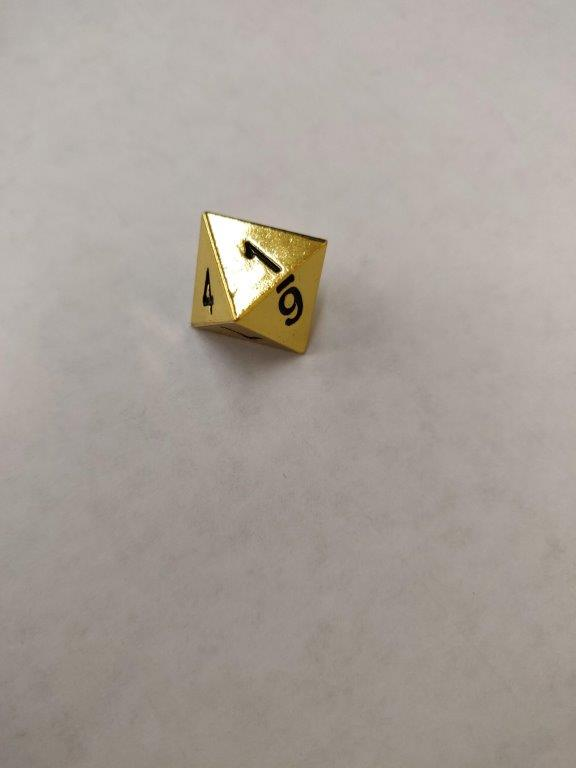d8-1: (183, 209, 328, 361)
